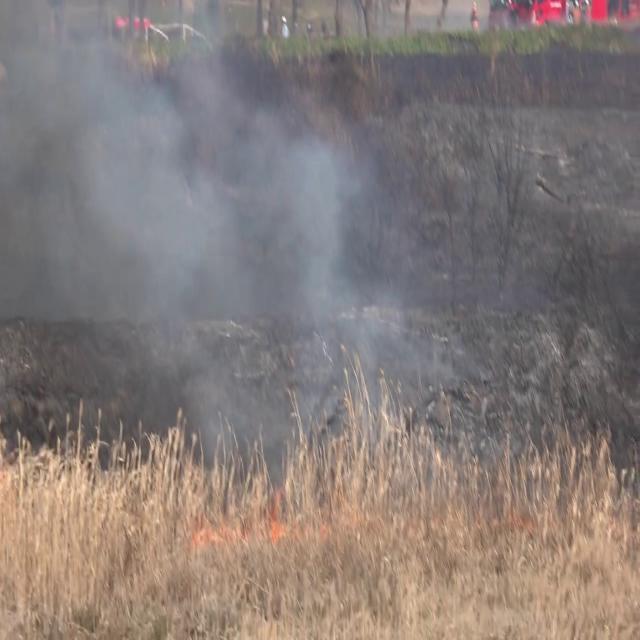Smoke: (0, 1, 420, 464)
